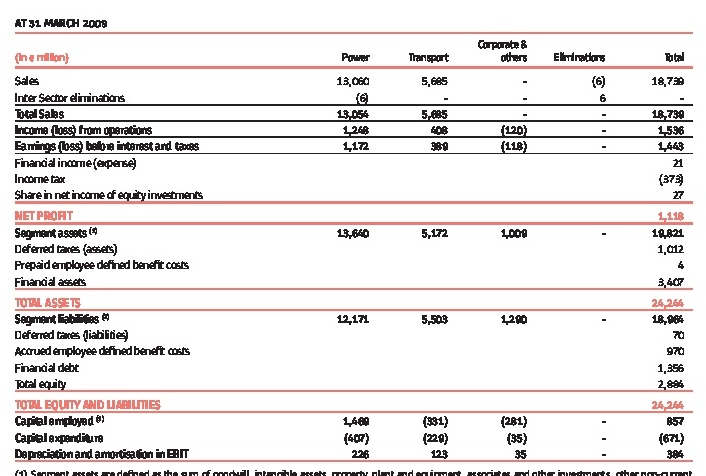table: (0, 0, 706, 476)
